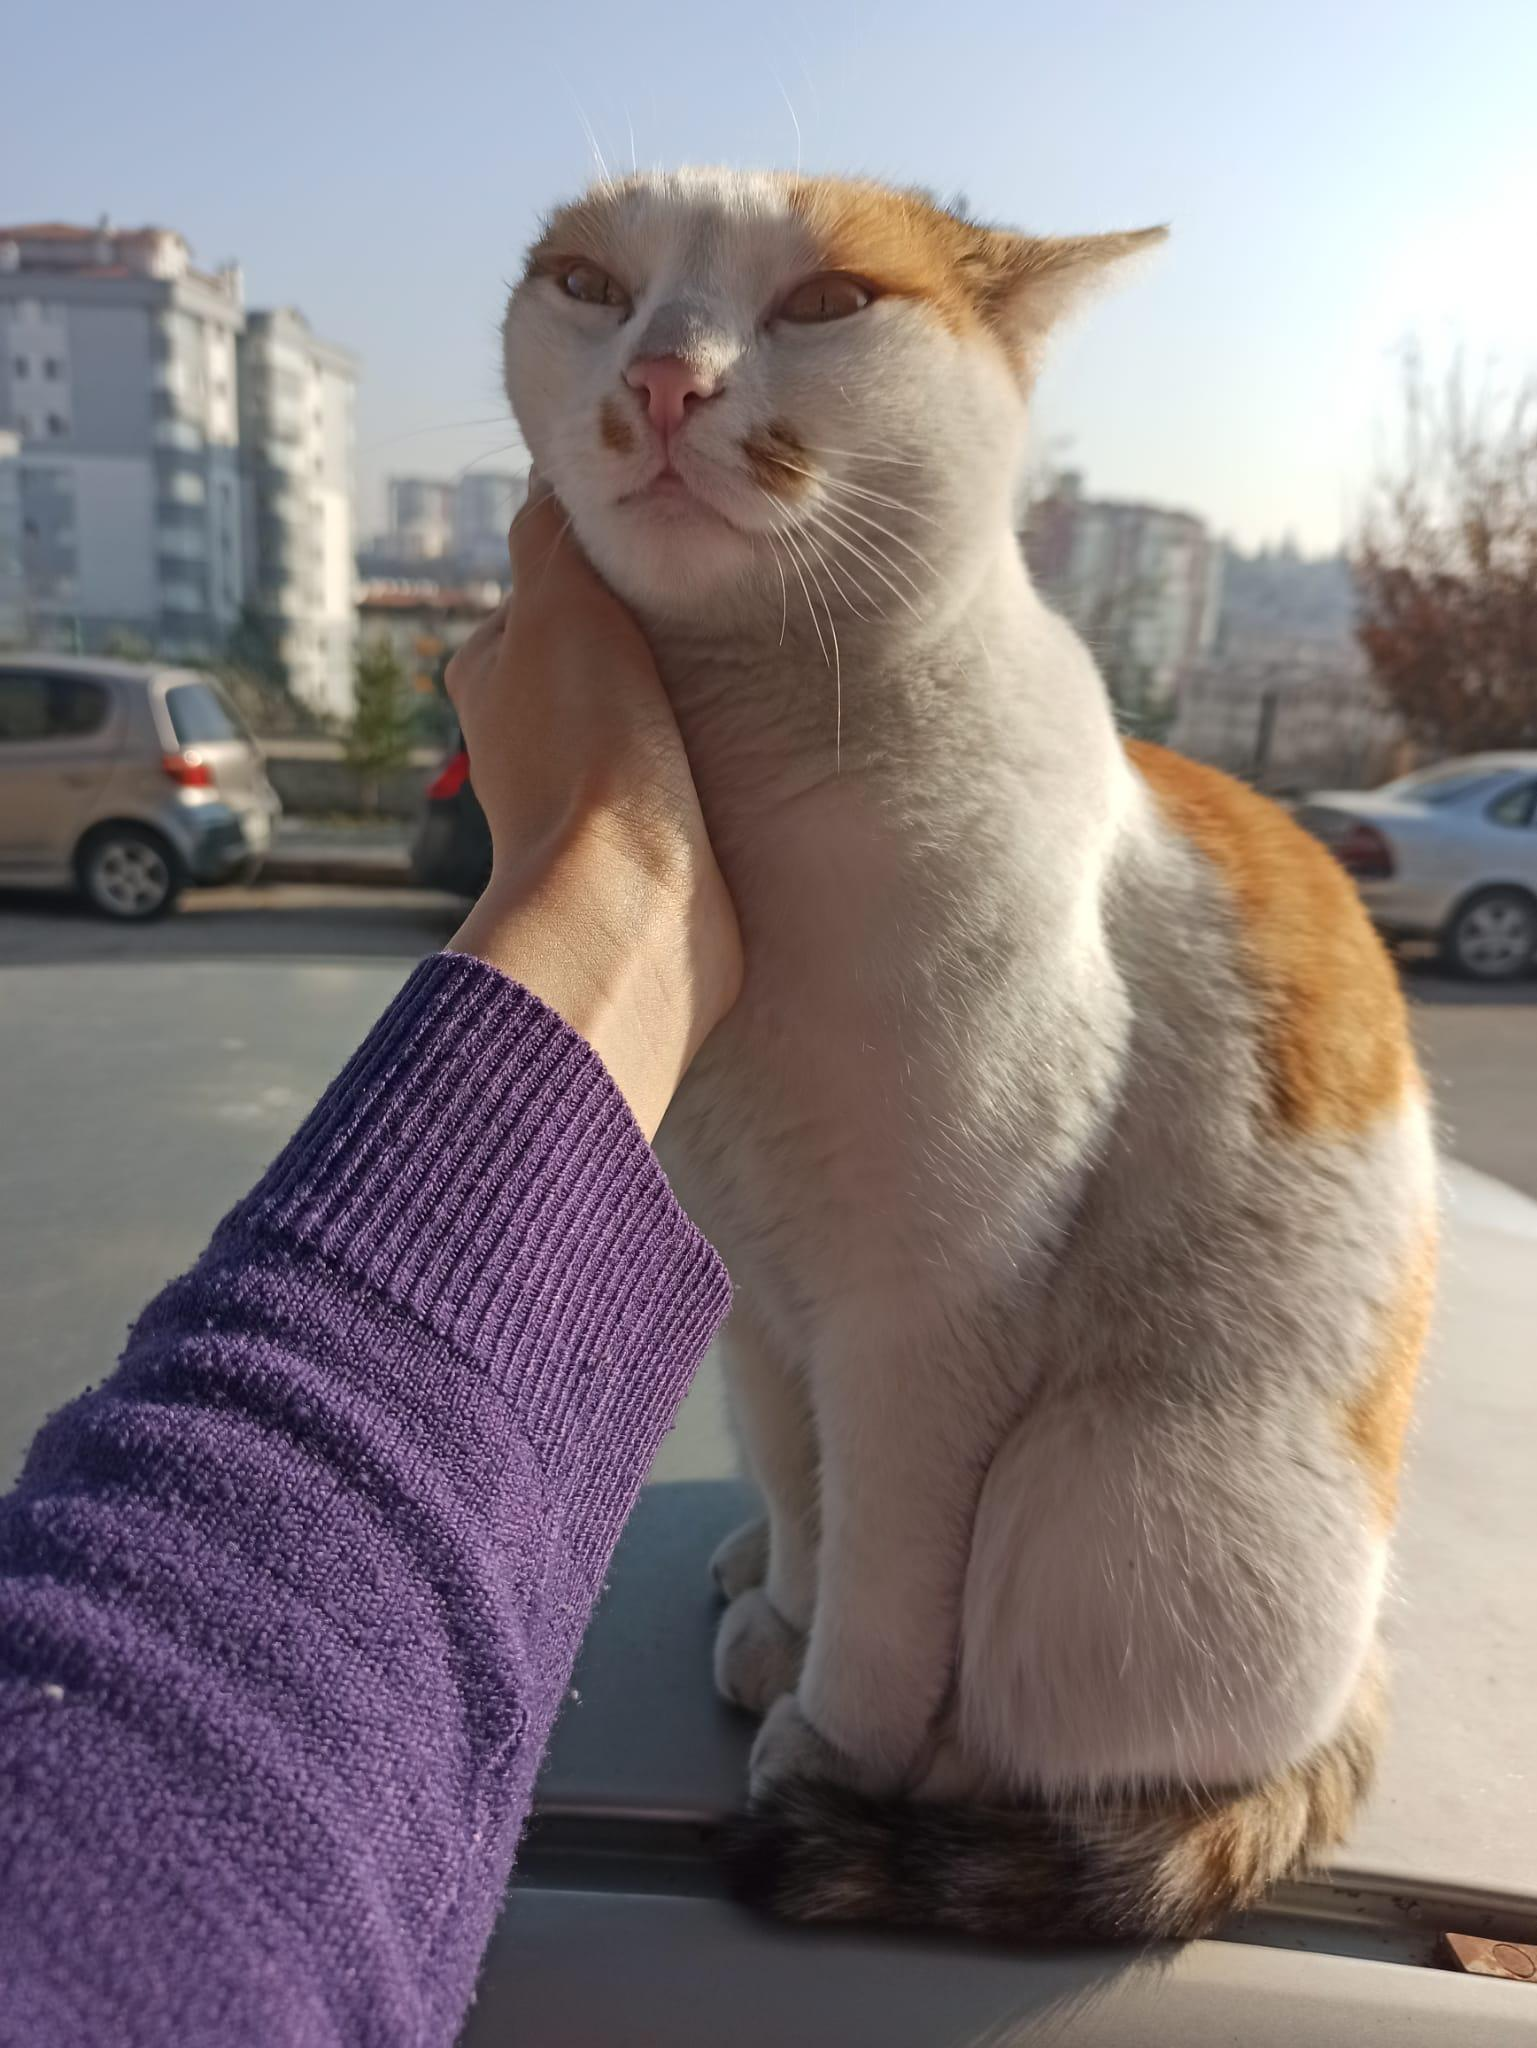kedo: (517, 168, 1440, 1959)
